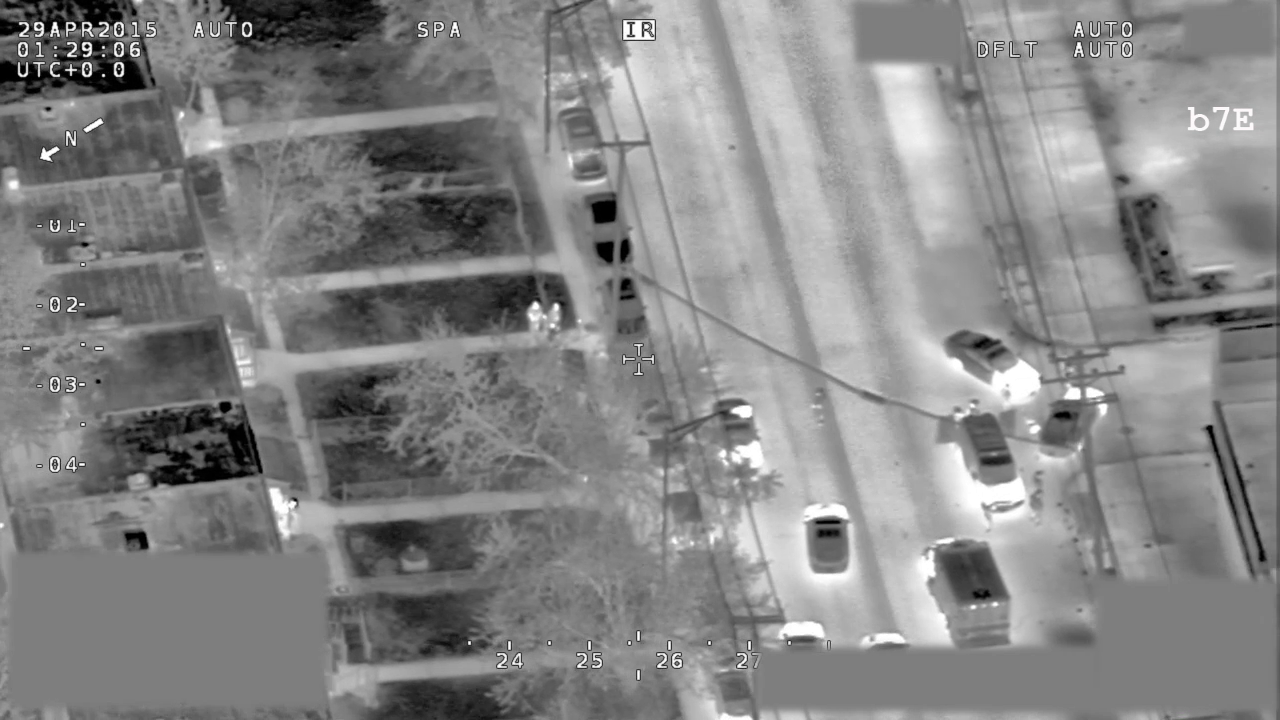vehicle: (935, 408, 1036, 524), (918, 535, 1014, 646), (940, 325, 1044, 404), (1036, 380, 1112, 464), (710, 397, 765, 478), (582, 191, 638, 269), (638, 401, 693, 480), (553, 107, 609, 183), (799, 503, 853, 579), (661, 488, 713, 551), (601, 276, 652, 338), (708, 669, 765, 720), (777, 619, 832, 653), (858, 630, 910, 652)
